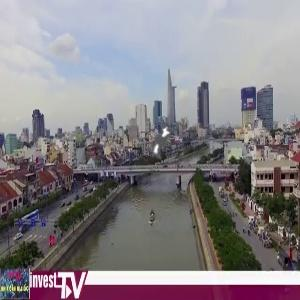drone: (114, 97, 207, 190)
